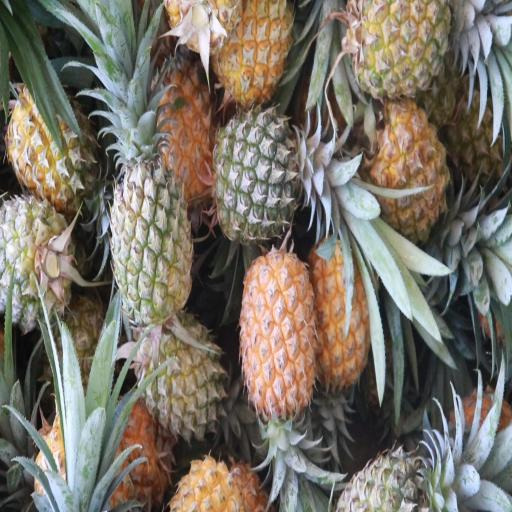------------------------------: (110, 136, 190, 318), (5, 83, 92, 199), (349, 0, 448, 101), (134, 320, 220, 436)
Pineapple - v8 v1: (240, 252, 317, 415), (371, 104, 449, 234), (312, 236, 375, 388), (154, 61, 218, 193), (217, 0, 292, 104)
